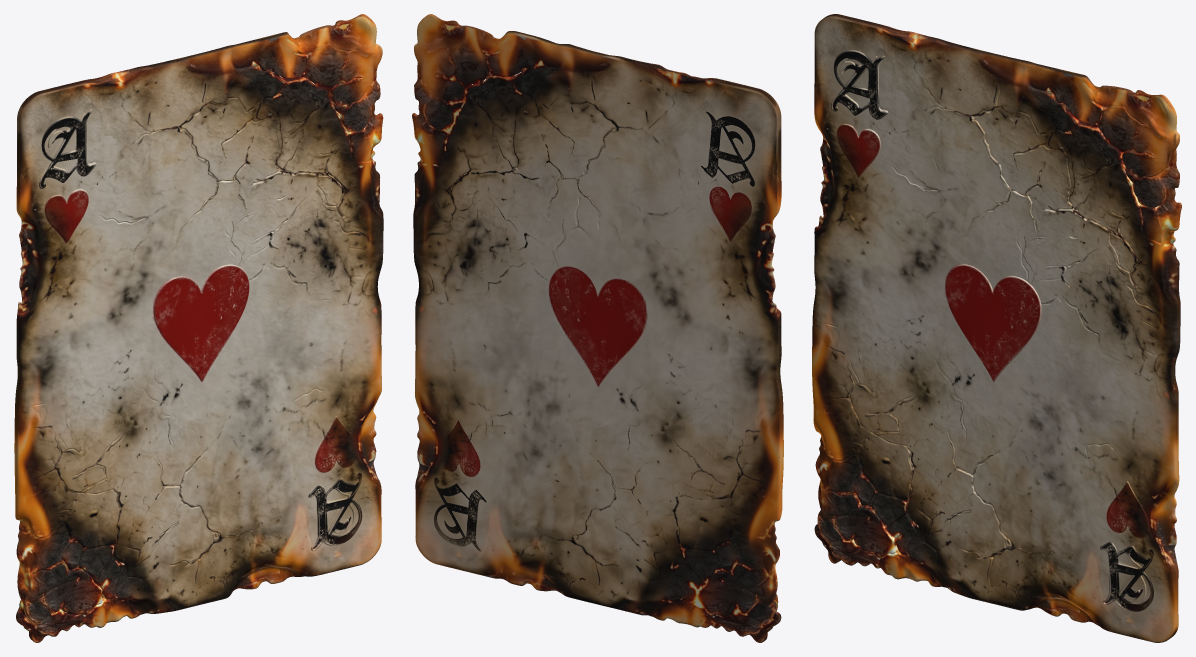
The model's file is herzass-meshy.glb.
The picture shows the model from 3 angles, left to right: view 1: azimuth 30°, elevation 25°; view 2: azimuth 150°, elevation 25°; view 3: azimuth 330°, elevation 25°; orthographic projection.
Bounding box in the file's own units: 1.33 × 1.9 × 0.0415.
Materials: 1 (1 with a texture image).
